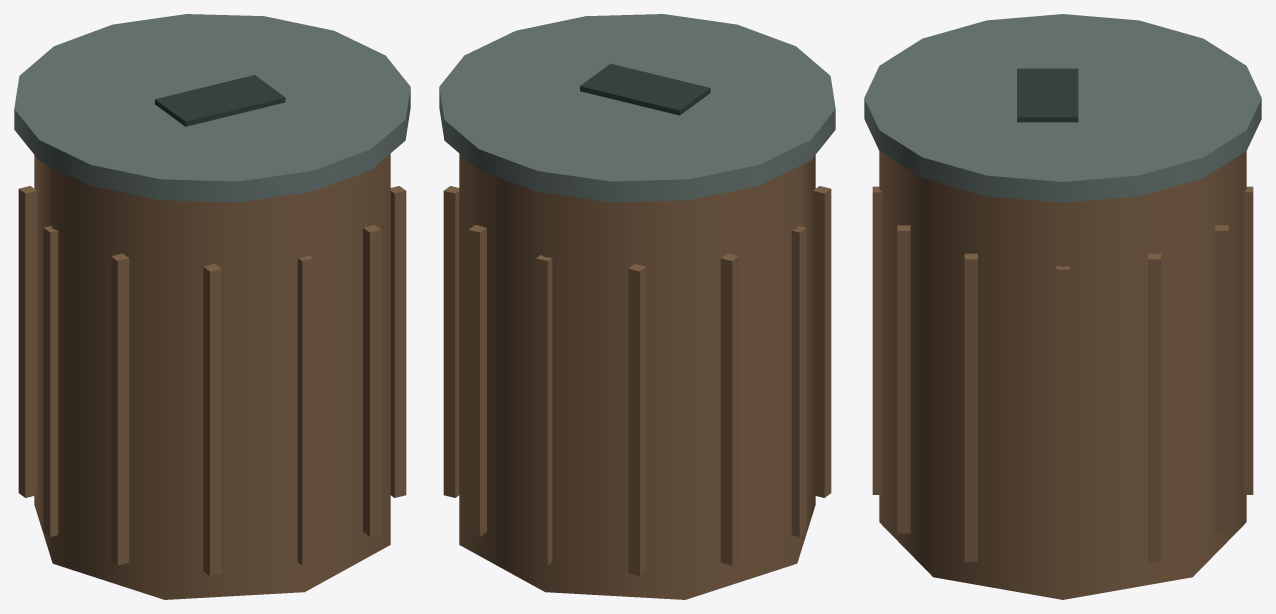
3 views of the same model, side by side, from view 1: azimuth 30°, elevation 25°; view 2: azimuth 150°, elevation 25°; view 3: azimuth 270°, elevation 25° (orthographic).
Parts seen in each view (by area): view 1: climb-bin-7-0, climb-bin-7-1, 쓰레기통 08; view 2: climb-bin-7-0, climb-bin-7-1, 쓰레기통 08; view 3: climb-bin-7-0, climb-bin-7-1, 쓰레기통 08.
Boxes of the visible parts, left/top/right/bottom form: climb-bin-7-0: left=34, top=153, right=390, bottom=599; climb-bin-7-1: left=14, top=14, right=410, bottom=202; 쓰레기통 08: left=18, top=75, right=406, bottom=575; climb-bin-7-0: left=459, top=153, right=815, bottom=599; climb-bin-7-1: left=439, top=14, right=835, bottom=202; 쓰레기통 08: left=443, top=63, right=831, bottom=575; climb-bin-7-0: left=879, top=151, right=1246, bottom=599; climb-bin-7-1: left=864, top=14, right=1261, bottom=202; 쓰레기통 08: left=872, top=68, right=1253, bottom=572.
Bounding box in the file's own units: 1.04 × 1.24 × 1.04.
